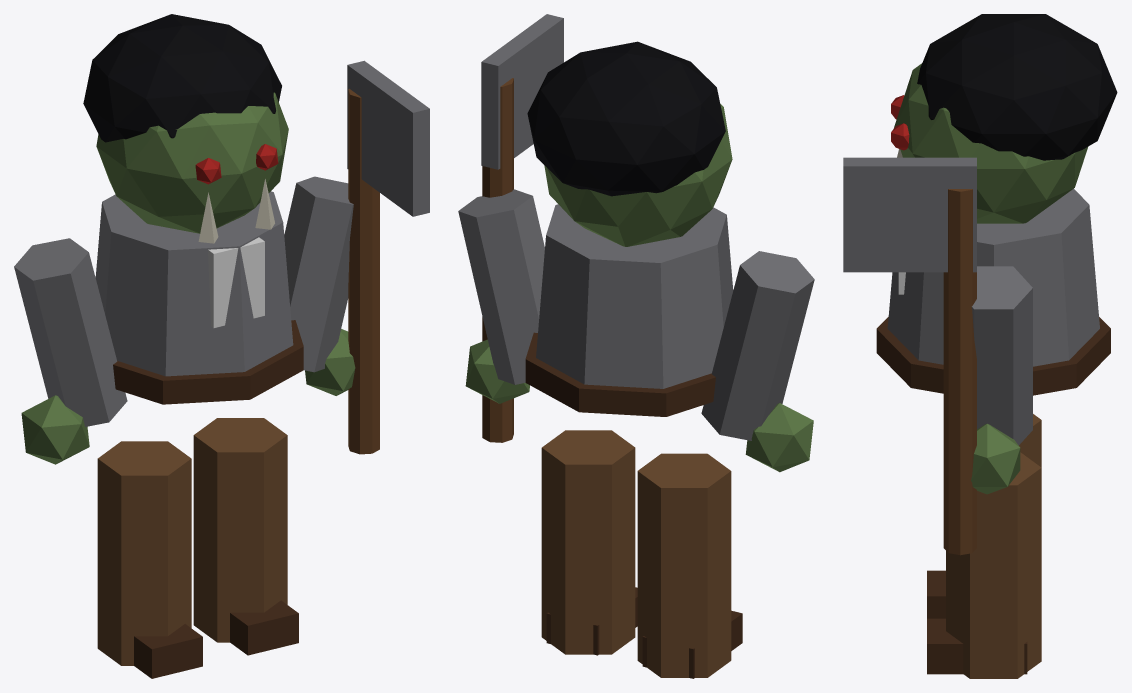
The model's file is SM_GZ_mon_orc_brute.fbx.
3 renders of one model, left to right at view 1: azimuth 30°, elevation 25°; view 2: azimuth 150°, elevation 25°; view 3: azimuth 270°, elevation 25°, orthographic. The views are drawn at different scales.
Parts seen in each view (by area): view 1: SM_GZ_mon_orc_brute; view 2: SM_GZ_mon_orc_brute; view 3: SM_GZ_mon_orc_brute.
Part boxes in pixels (x1,y1,x2,y2): SM_GZ_mon_orc_brute: [14, 14, 429, 678]; SM_GZ_mon_orc_brute: [458, 14, 814, 678]; SM_GZ_mon_orc_brute: [843, 14, 1117, 678].
Bounding box in the file's own units: 162 × 274 × 111.
